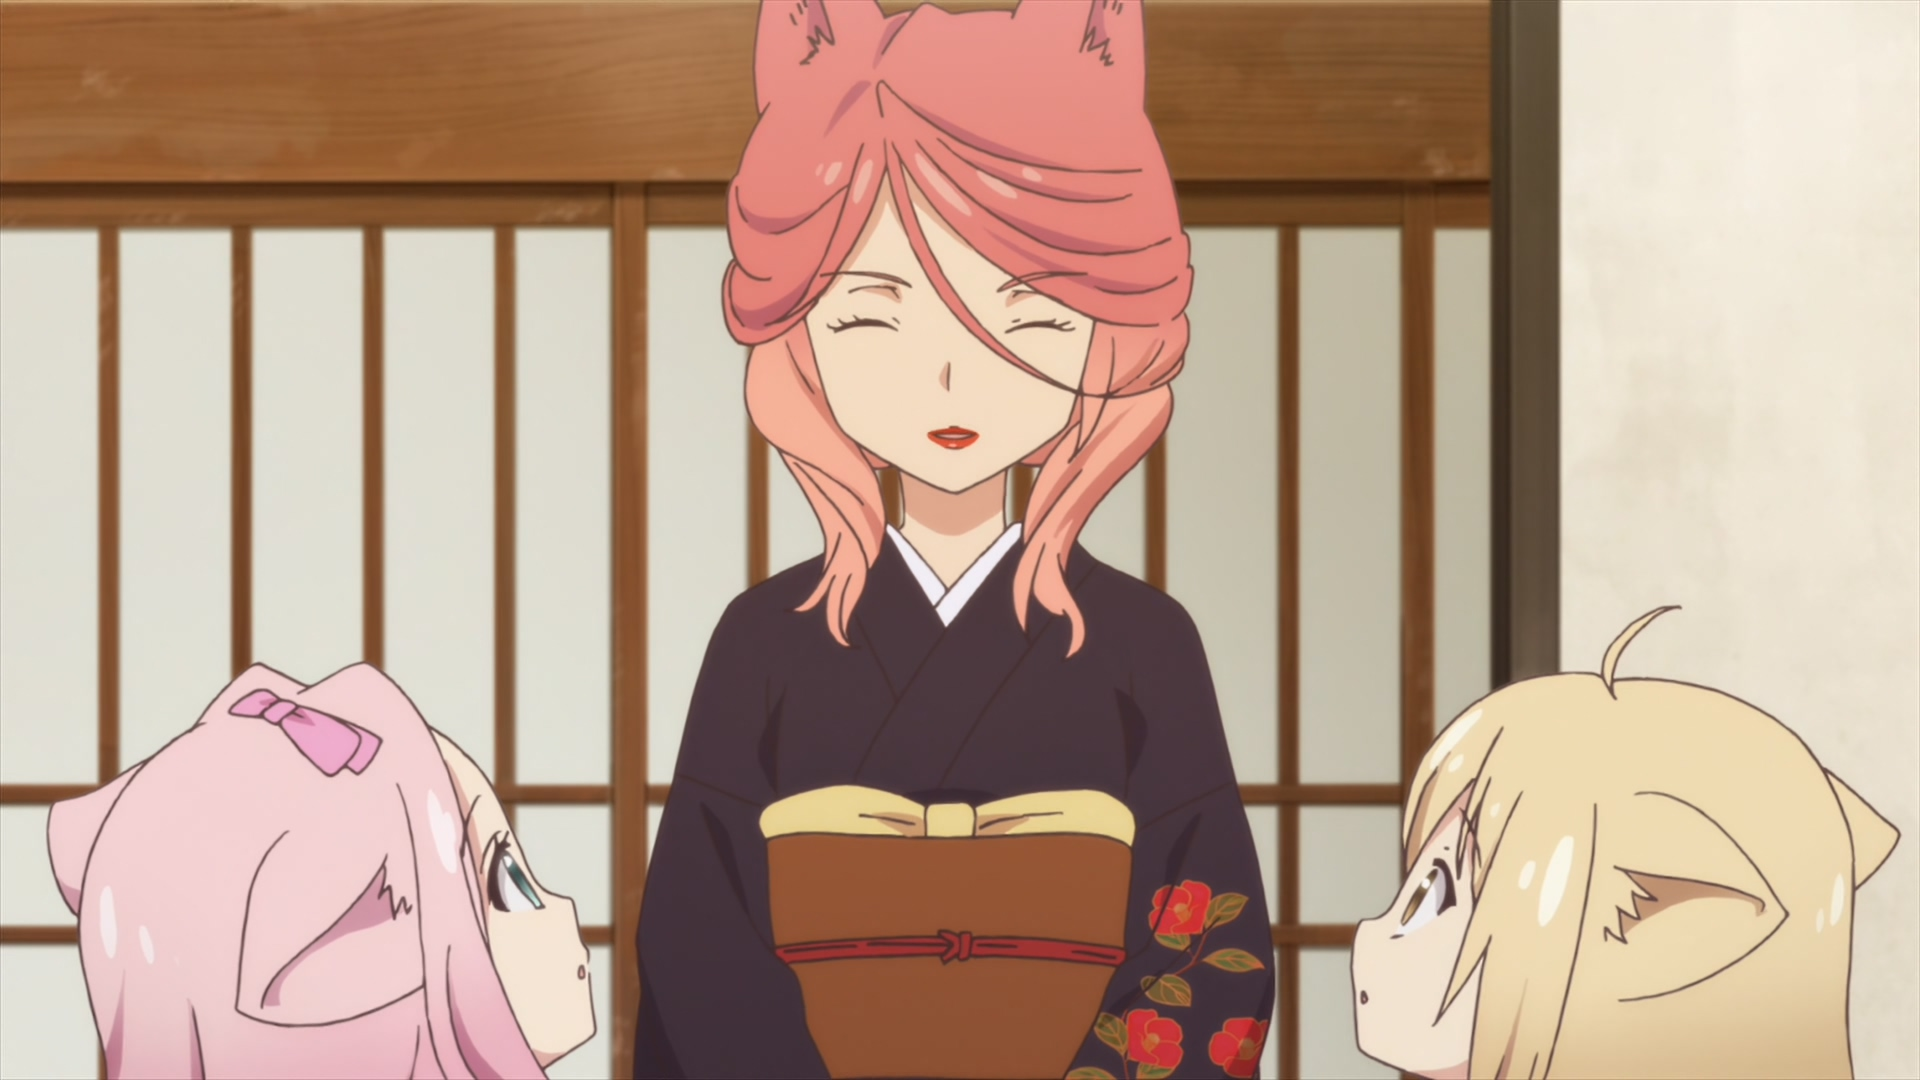柚: (1352, 604, 1900, 1080)
椿: (633, 1, 1276, 1080)
莲: (47, 661, 596, 1080)
